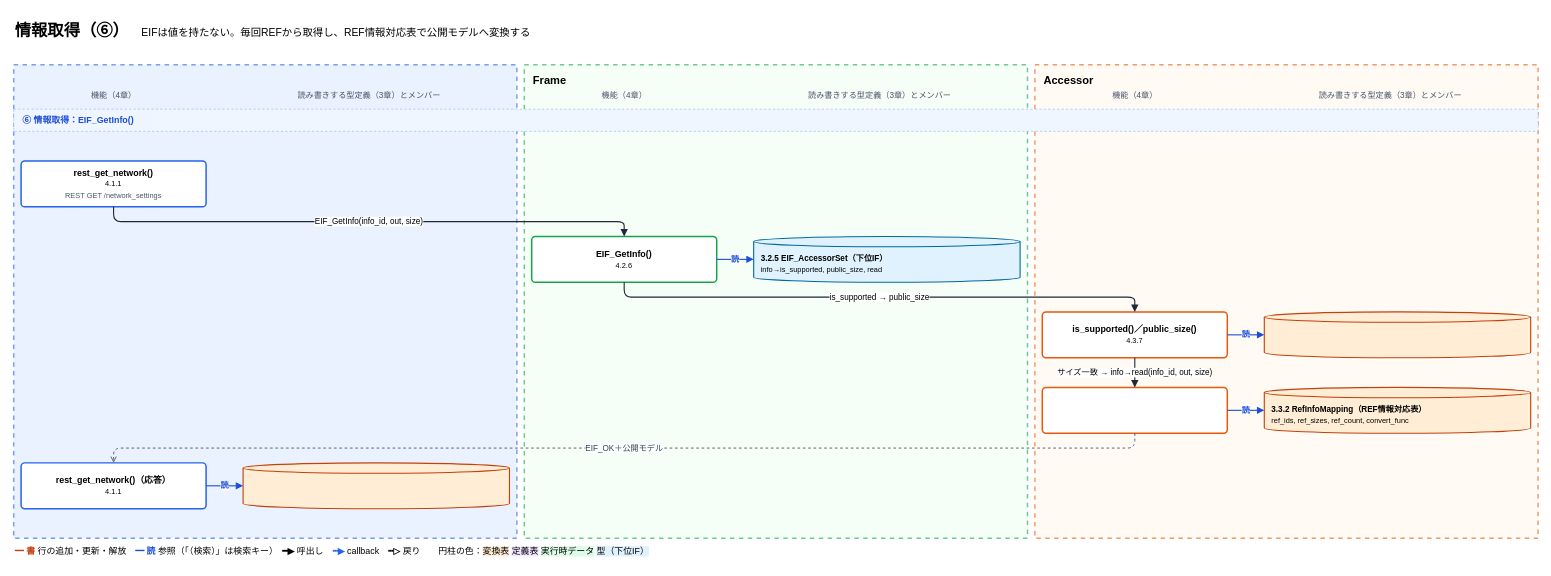
This 1551x576 diagram has some shape labels left out. The shapes that lost their labels are listed below. From the top down, each one's box as (x1, y1, x2, y2) in pixels, then its label:
(13, 64, 517, 539): Connector
(1263, 311, 1531, 358): 3.3.2 RefInfoMapping（REF情報対応表） public_info_id（検索）, public_size（out_size と照合）
(1041, 386, 1228, 434): read() 4.3.3 → RIM_GetBinary()。サイズ照合 → 変換
(242, 462, 510, 509): 3.1.2 ResultMapping（結果コード対応表） eif_result → external_result
